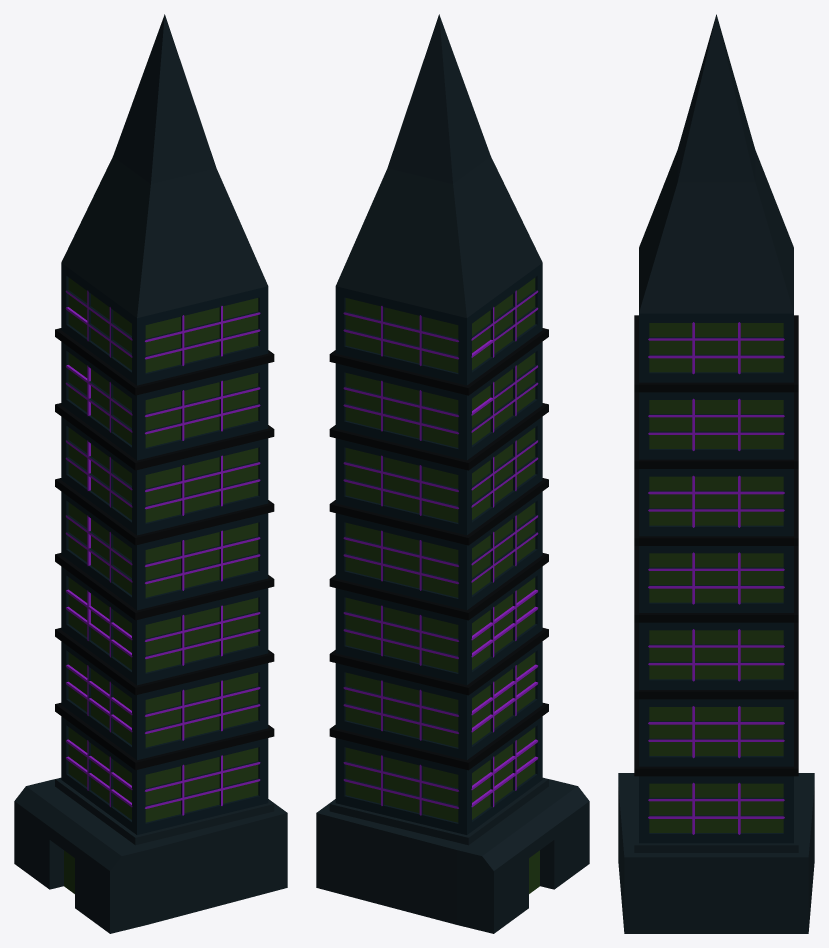
The model's file is skyscraperB.fbx.
3 views of the same model, side by side, from view 1: azimuth 30°, elevation 25°; view 2: azimuth 150°, elevation 25°; view 3: azimuth 270°, elevation 25° (orthographic). The views are drawn at different scales.
Parts seen in each view (by area): view 1: SkyscraperB; view 2: SkyscraperB; view 3: SkyscraperB.
Part boxes in pixels (x1,y1,x2,y2): SkyscraperB: (14,14,287,933); SkyscraperB: (316,14,589,933); SkyscraperB: (618,14,814,933).
Size of the model in its own units: 797 by 3630 by 733.
